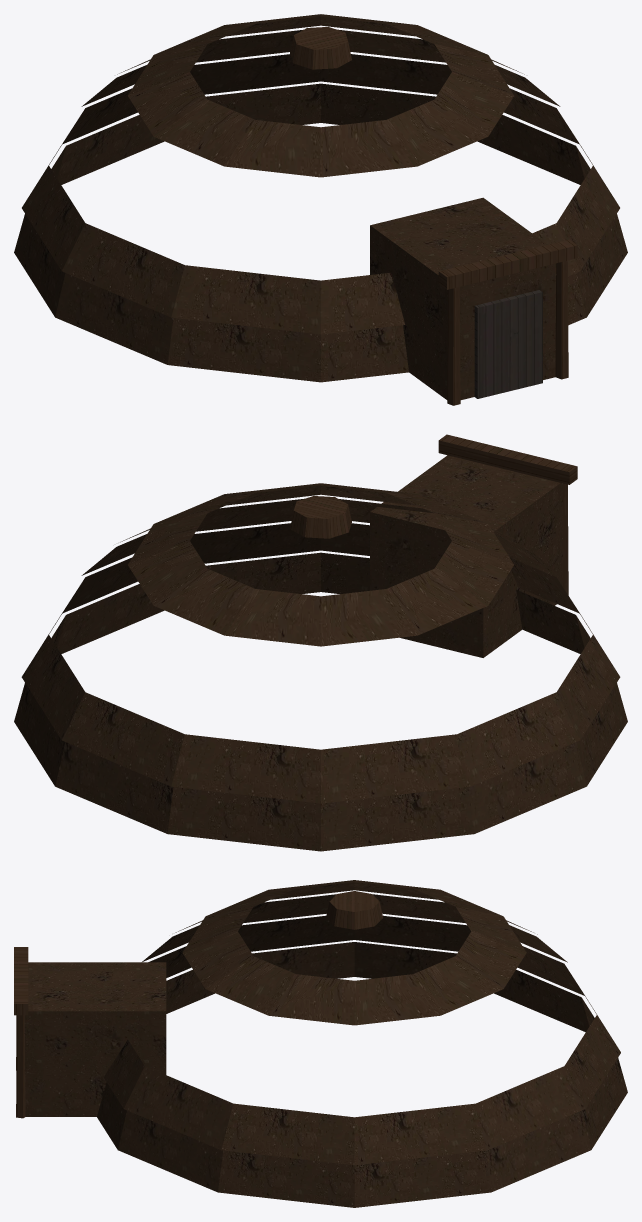
Rendered from earth_lodge_01.glb.
3 renders of one model, top to bottom at view 1: azimuth 30°, elevation 25°; view 2: azimuth 150°, elevation 25°; view 3: azimuth 270°, elevation 25°, orthographic. The views are drawn at different scales.
Visible parts, largest first — view 1: earth_lodge_01; view 2: earth_lodge_01; view 3: earth_lodge_01.
Boxes of the visible parts, x1,y1,x2,y2 form: earth_lodge_01: [14, 14, 627, 405]; earth_lodge_01: [14, 434, 627, 851]; earth_lodge_01: [14, 880, 627, 1207].
Size of the model in its own units: 6.1 by 2.35 by 6.85.
Materials: 3 (3 with a texture image).
